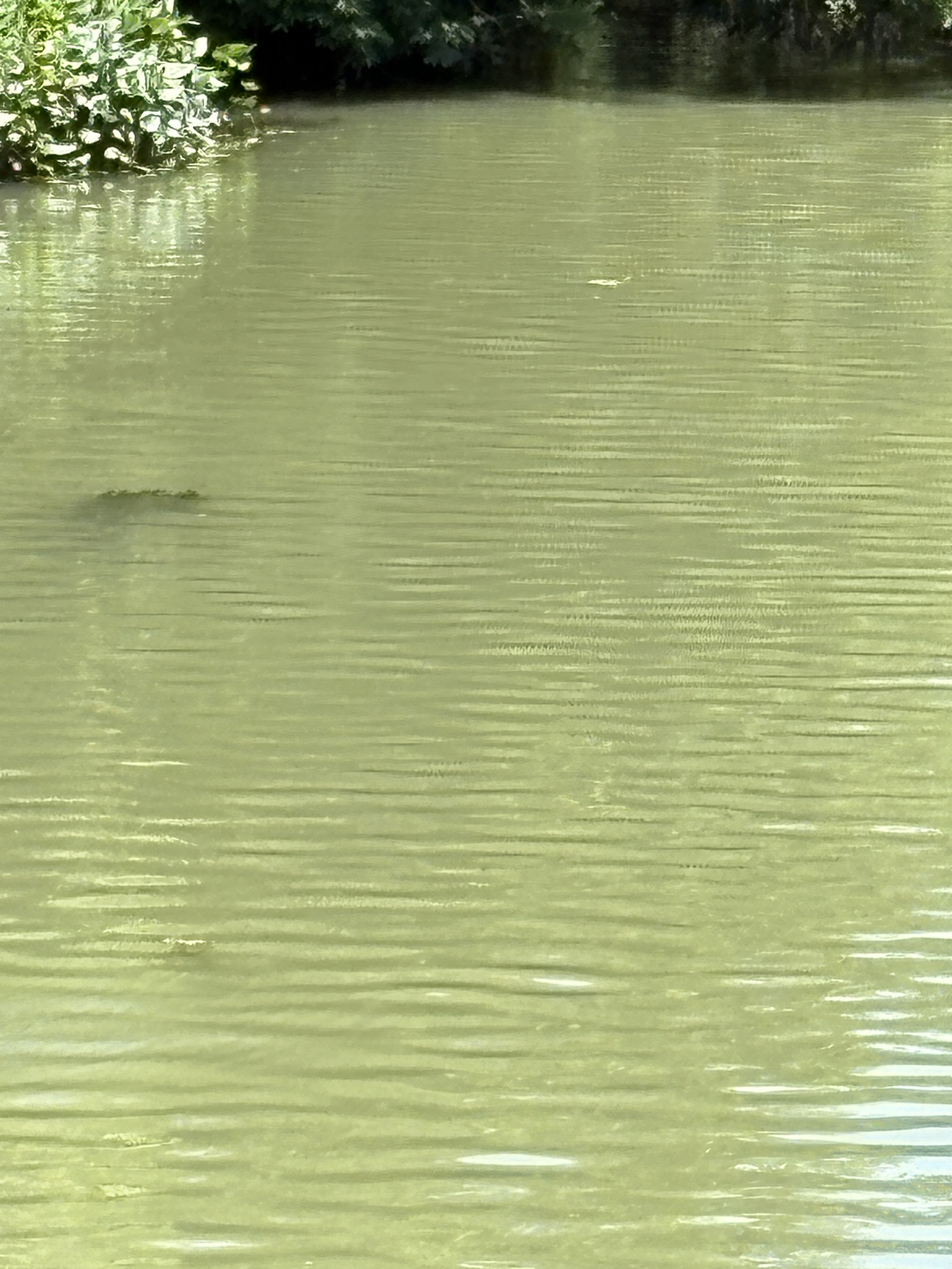Other: (366, 1006, 379, 1140)
